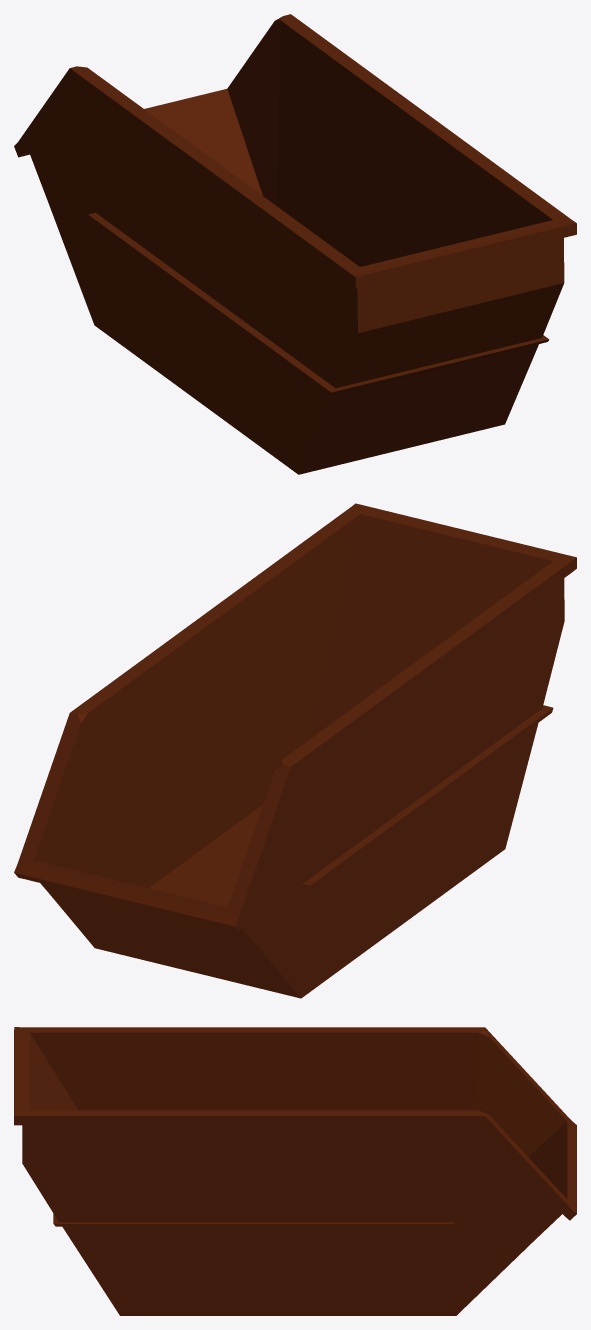
File: garbageContainer.fbx
3 renders of one model, top to bottom at view 1: azimuth 30°, elevation 25°; view 2: azimuth 150°, elevation 25°; view 3: azimuth 270°, elevation 25°, orthographic. The views are drawn at different scales.
Visible parts, largest first — view 1: Cube; view 2: Cube; view 3: Cube.
Boxes of the visible parts, bbox=[...] form: Cube: bbox=[14, 14, 576, 474]; Cube: bbox=[14, 503, 576, 998]; Cube: bbox=[14, 1027, 576, 1315].
Bounding box in the file's own units: 264 × 281 × 706.
